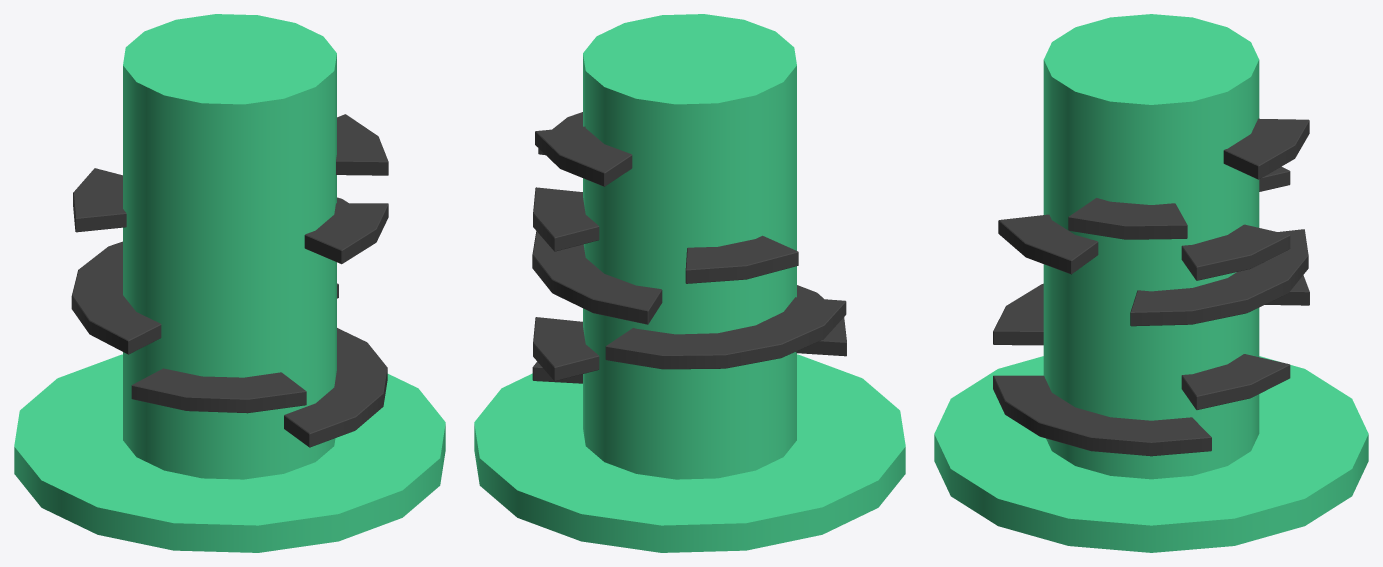
File: bubb.fbx
3 renders of one model, left to right at view 1: azimuth 30°, elevation 25°; view 2: azimuth 150°, elevation 25°; view 3: azimuth 270°, elevation 25°, orthographic.
Visible parts, largest first — view 1: base, Cylinder.001; view 2: base, Cylinder.001; view 3: base, Cylinder.001.
Part boxes in pixels (<box>): base: <box>14,14,445,552</box>; Cylinder.001: <box>71,114,388,447</box>; base: <box>474,14,905,552</box>; Cylinder.001: <box>532,112,846,383</box>; base: <box>934,14,1368,552</box>; Cylinder.001: <box>993,118,1309,456</box>.
Bounding box in the file's own units: 2943 × 3003 × 2943.
